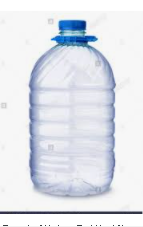Bottle: (30, 19, 114, 196)
